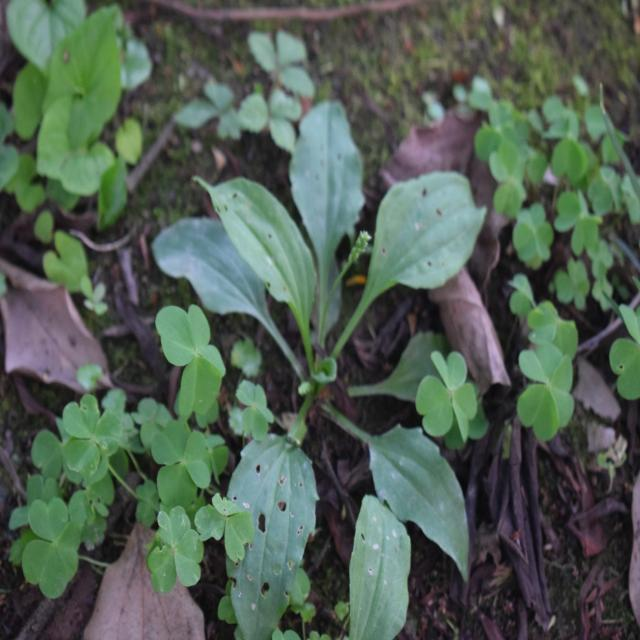plantain: (170, 112, 482, 584)
